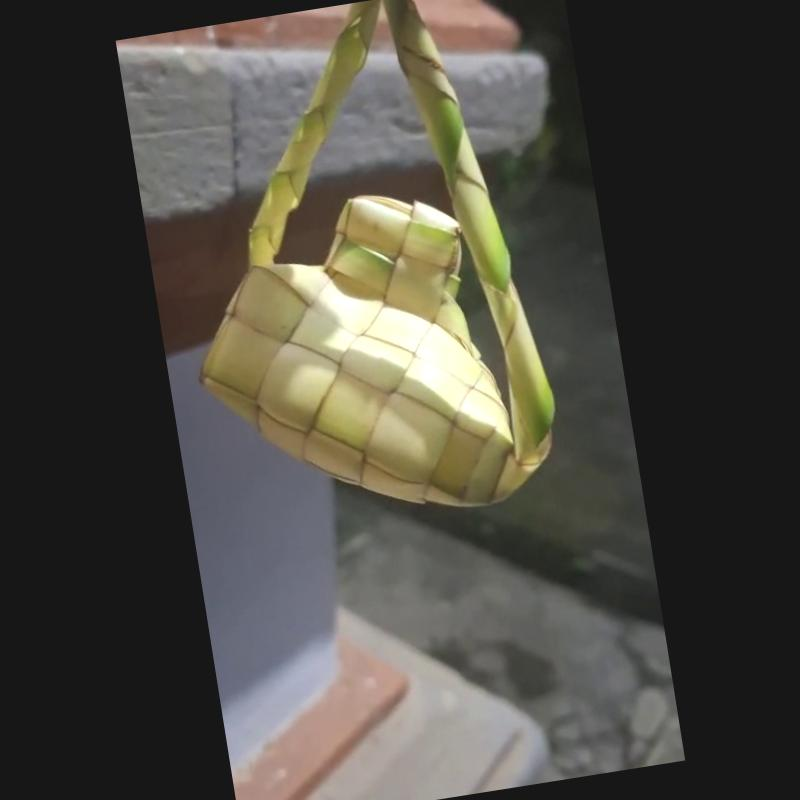Tipat Gong: (194, 0, 558, 515)
